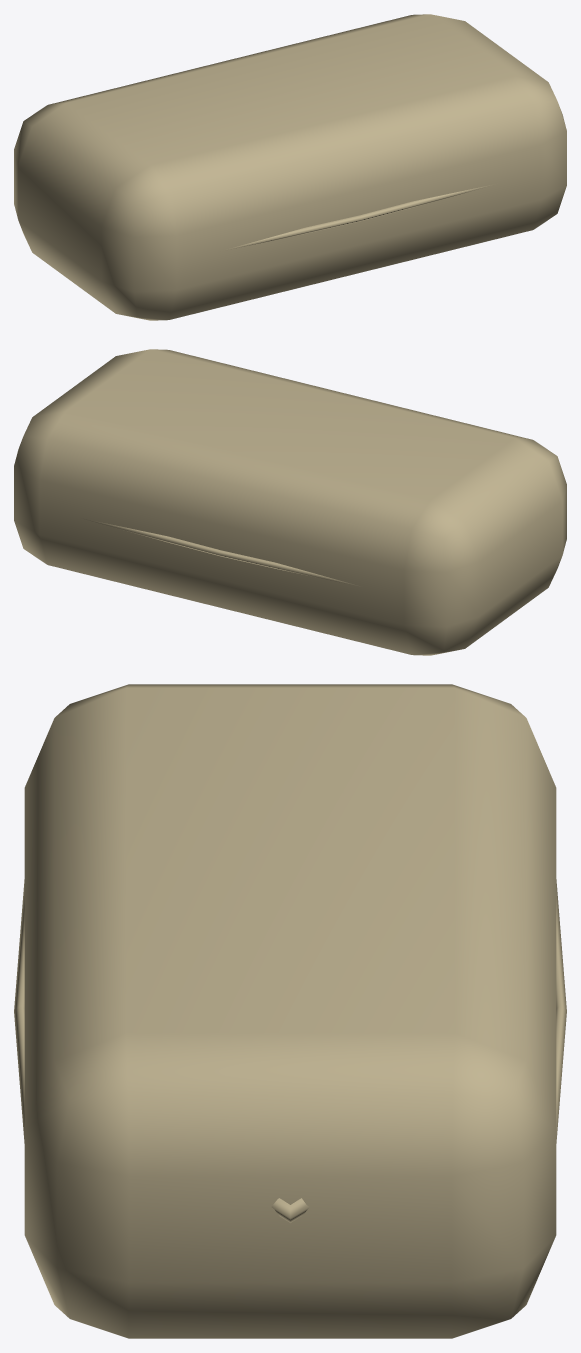
File: trench_sandbag_1916_web.glb
3 renders of one model, top to bottom at view 1: azimuth 30°, elevation 25°; view 2: azimuth 150°, elevation 25°; view 3: azimuth 270°, elevation 25°, orthographic. The views are drawn at different scales.
Parts seen in each view (by area): view 1: Canvas_Linen; view 2: Canvas_Linen; view 3: Canvas_Linen.
Part boxes in pixels (left/top/right/bottom): Canvas_Linen: left=14, top=14, right=566, bottom=320; Canvas_Linen: left=14, top=349, right=566, bottom=655; Canvas_Linen: left=14, top=684, right=566, bottom=1338.
Size of the model in its own units: 0.636 by 0.2 by 0.332.
